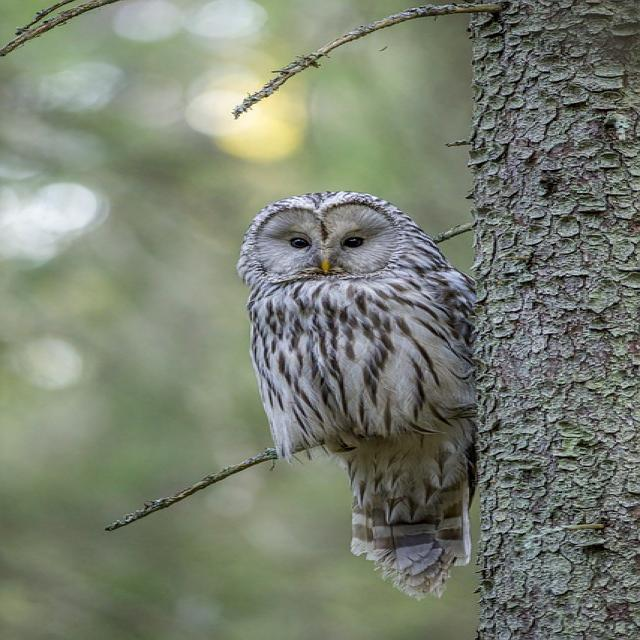Carnivorous: (229, 191, 478, 601)
